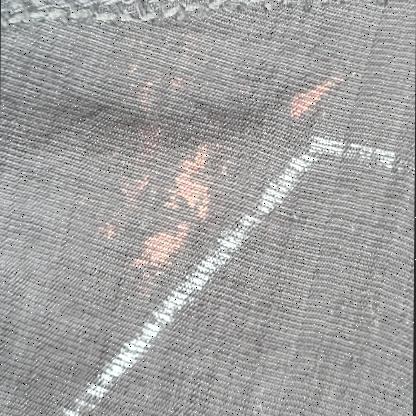spot: (97, 136, 238, 275), (276, 61, 354, 130), (109, 62, 194, 102)
